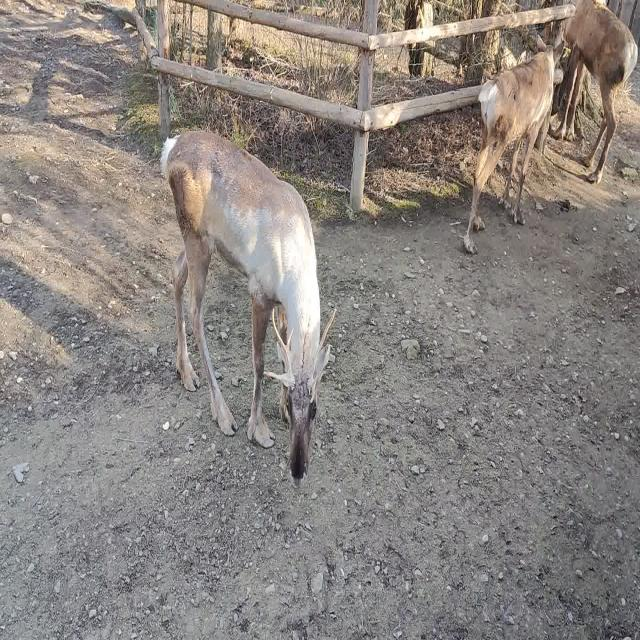deer: (160, 128, 336, 486), (464, 34, 565, 256), (555, 0, 638, 184)
